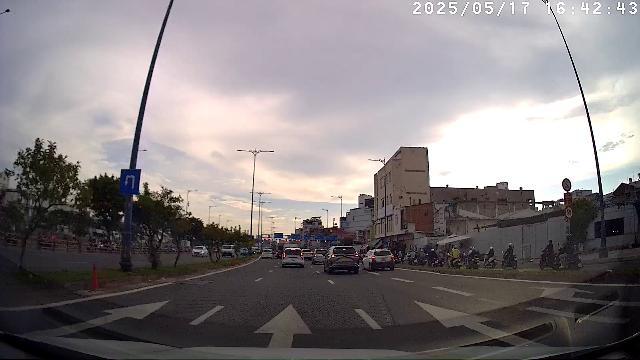127-toc-do-toi-da-50: (564, 206, 574, 219)
